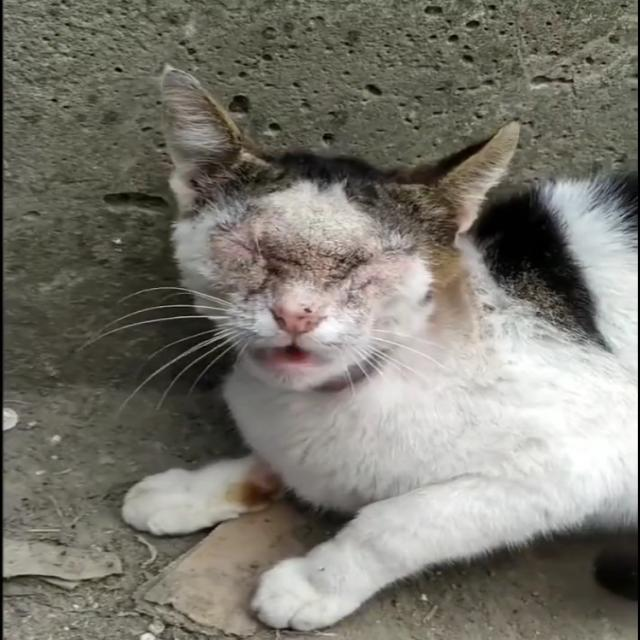cat-scabies: (217, 216, 421, 300), (153, 67, 269, 194)
